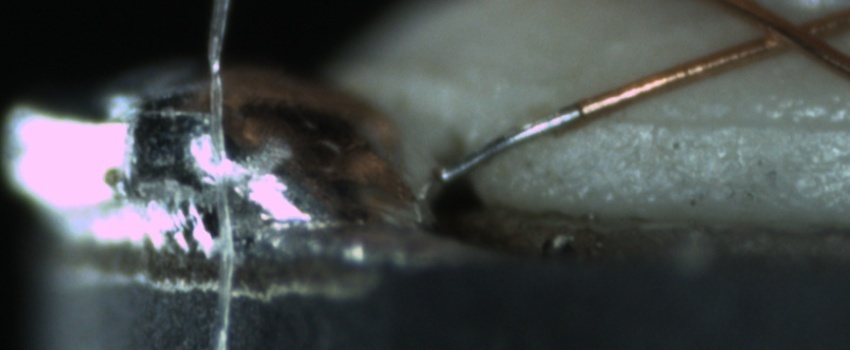CL: (741, 3, 839, 62)
DL: (576, 91, 845, 154)
TS: (439, 107, 579, 182)
